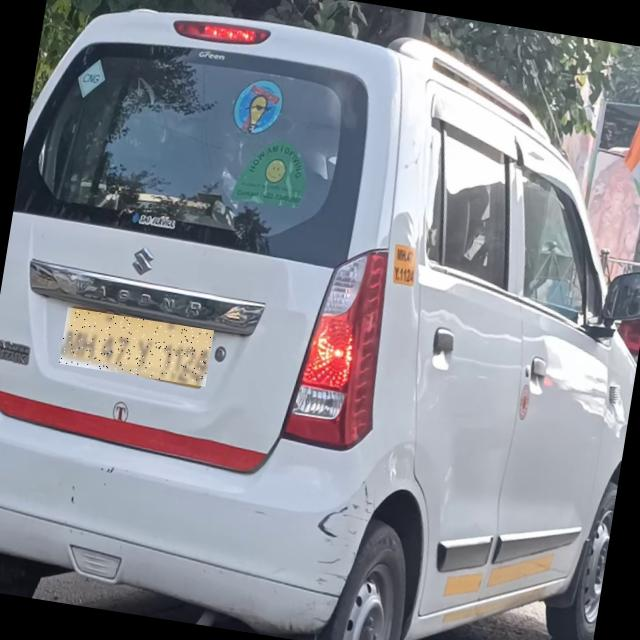Plate: (60, 309, 215, 388)
